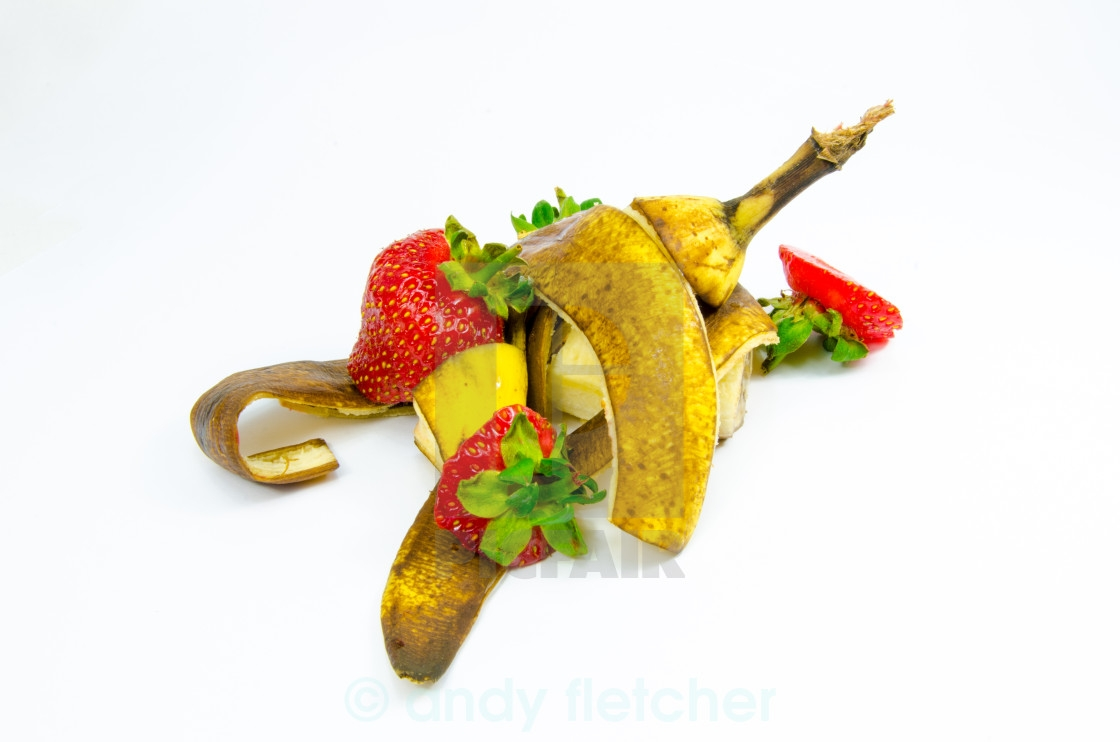kitchen_waste: (513, 197, 724, 570), (359, 397, 578, 688), (616, 81, 911, 278), (177, 334, 408, 491), (341, 226, 525, 409), (440, 402, 597, 562), (757, 236, 906, 380), (396, 346, 548, 453)
